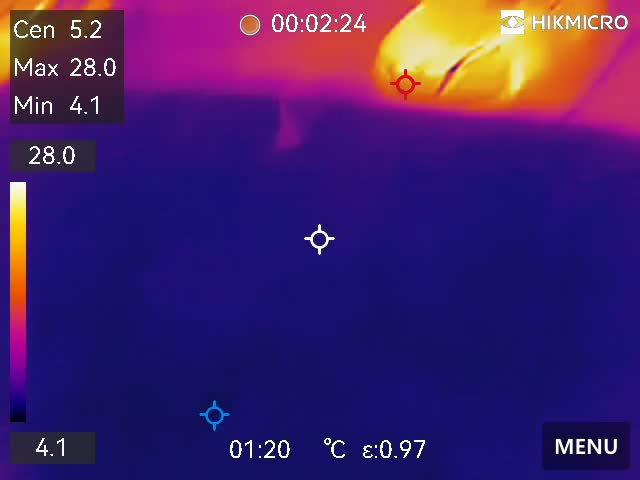smallCar: (356, 1, 607, 126)
